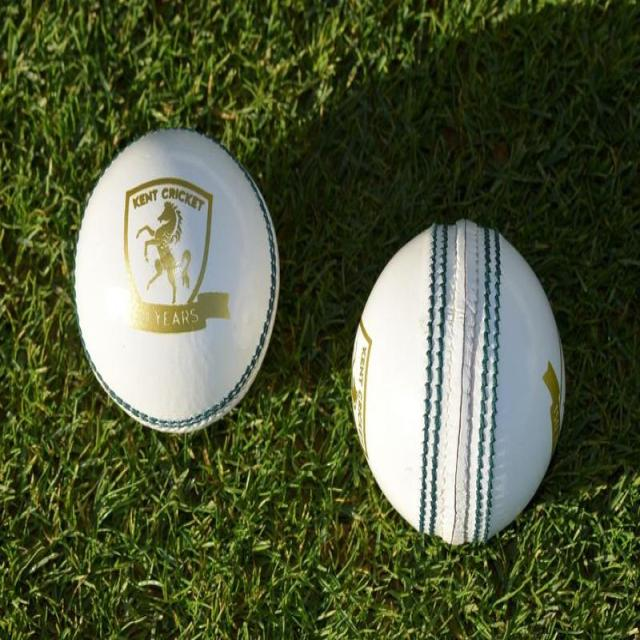ball: (350, 222, 568, 551), (70, 130, 276, 430)
